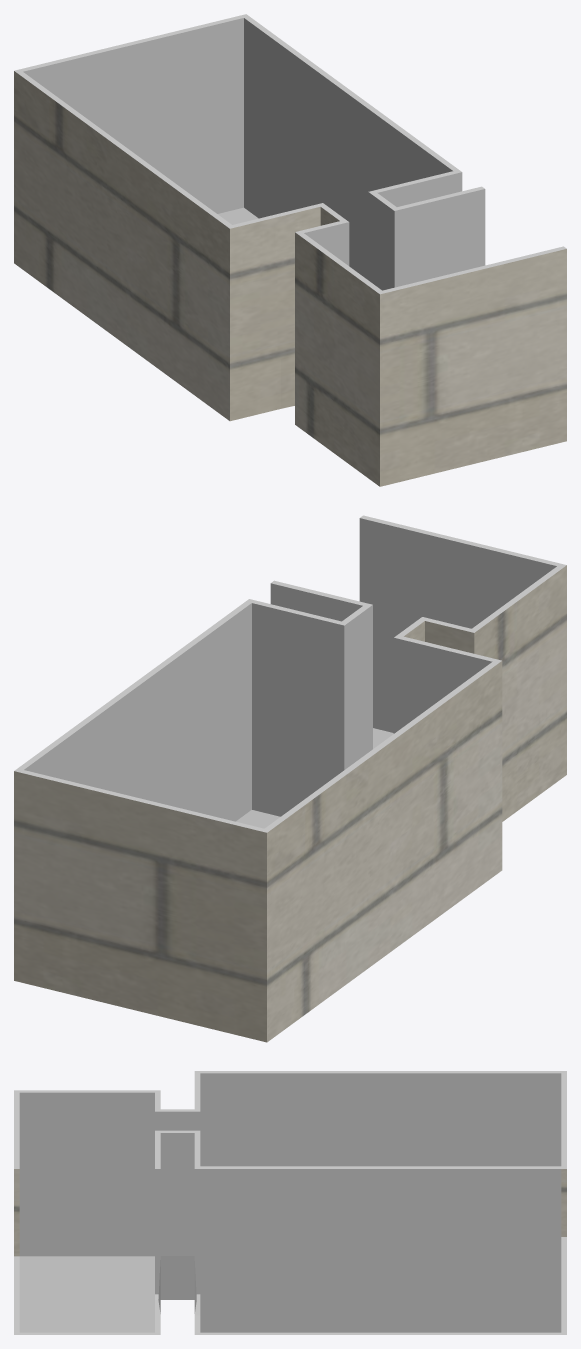
File: Battle_fire_room.fbx
3 views of the same model, one above another, from view 1: azimuth 30°, elevation 25°; view 2: azimuth 150°, elevation 25°; view 3: azimuth 270°, elevation 25° (orthographic). The views are drawn at different scales.
Visible parts, largest first — view 1: edificio, edificio.001; view 2: edificio, edificio.001; view 3: edificio, edificio.001.
Boxes of the visible parts, left/top/right/bottom form: edificio: left=14, top=14, right=566, bottom=486; edificio.001: left=244, top=16, right=458, bottom=279; edificio: left=14, top=515, right=566, bottom=1042; edificio.001: left=18, top=601, right=251, bottom=821; edificio: left=14, top=1071, right=566, bottom=1334; edificio.001: left=200, top=1166, right=561, bottom=1332.
Size of the model in its own units: 512 by 410 by 1225.
